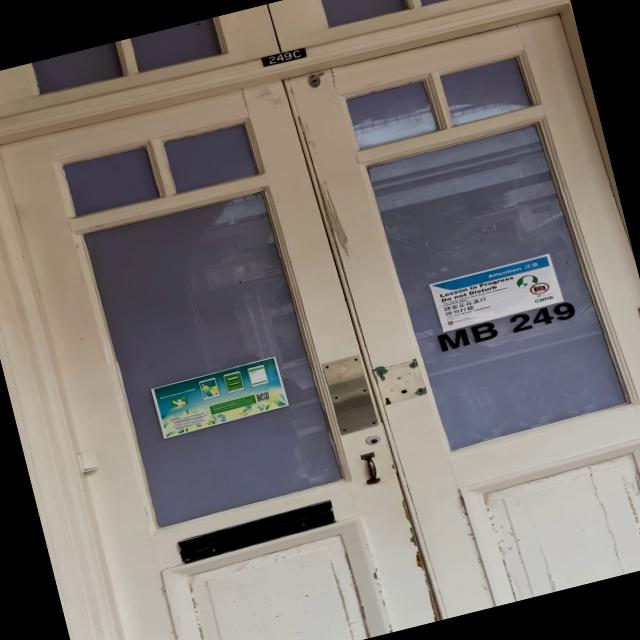room249c: (256, 42, 310, 70)
room249cWindow: (432, 297, 576, 355)
